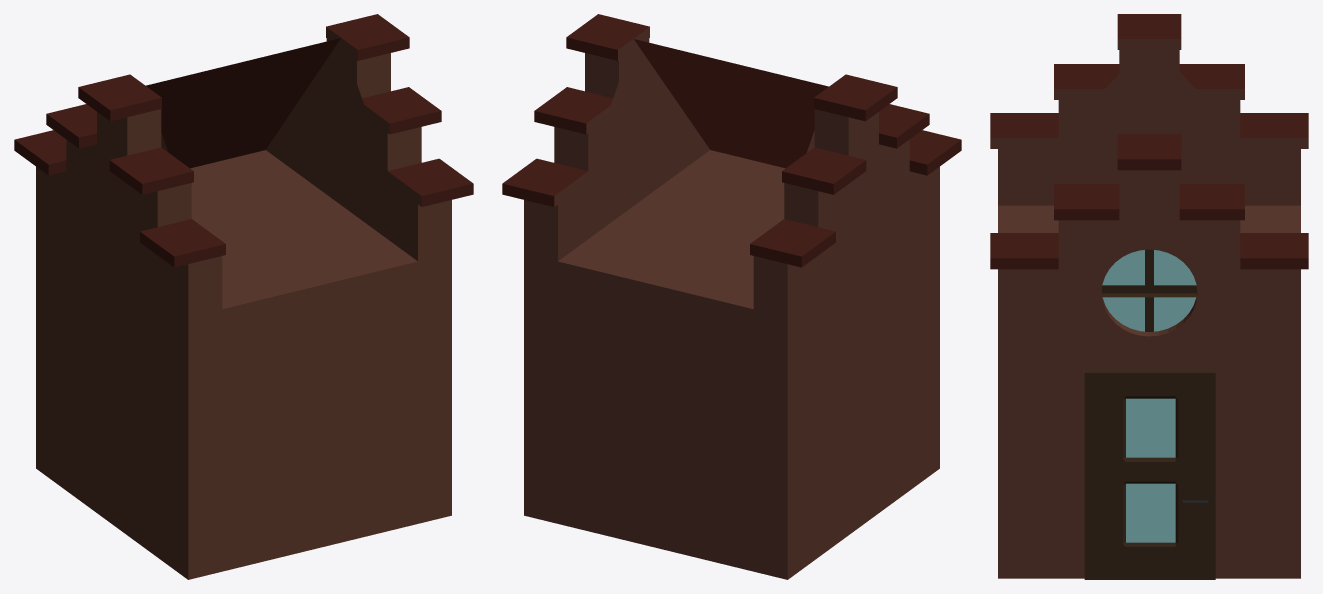
File: House2.obj
3 renders of one model, left to right at view 1: azimuth 30°, elevation 25°; view 2: azimuth 150°, elevation 25°; view 3: azimuth 270°, elevation 25°, orthographic.
Visible parts, largest first — view 1: House2; view 2: House2; view 3: House2.
Boxes of the visible parts, <box> form: House2: <box>14,14,473,579</box>; House2: <box>502,14,961,579</box>; House2: <box>990,14,1308,579</box>.
Size of the model in its own units: 2.27 by 3.11 by 2.1.
